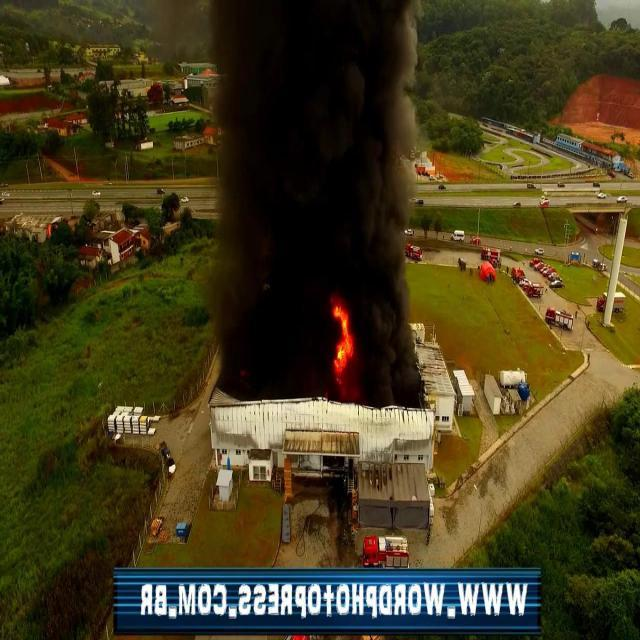Fire: (328, 295, 362, 400)
Smoke: (211, 0, 324, 404), (328, 0, 421, 287), (364, 295, 428, 415)
